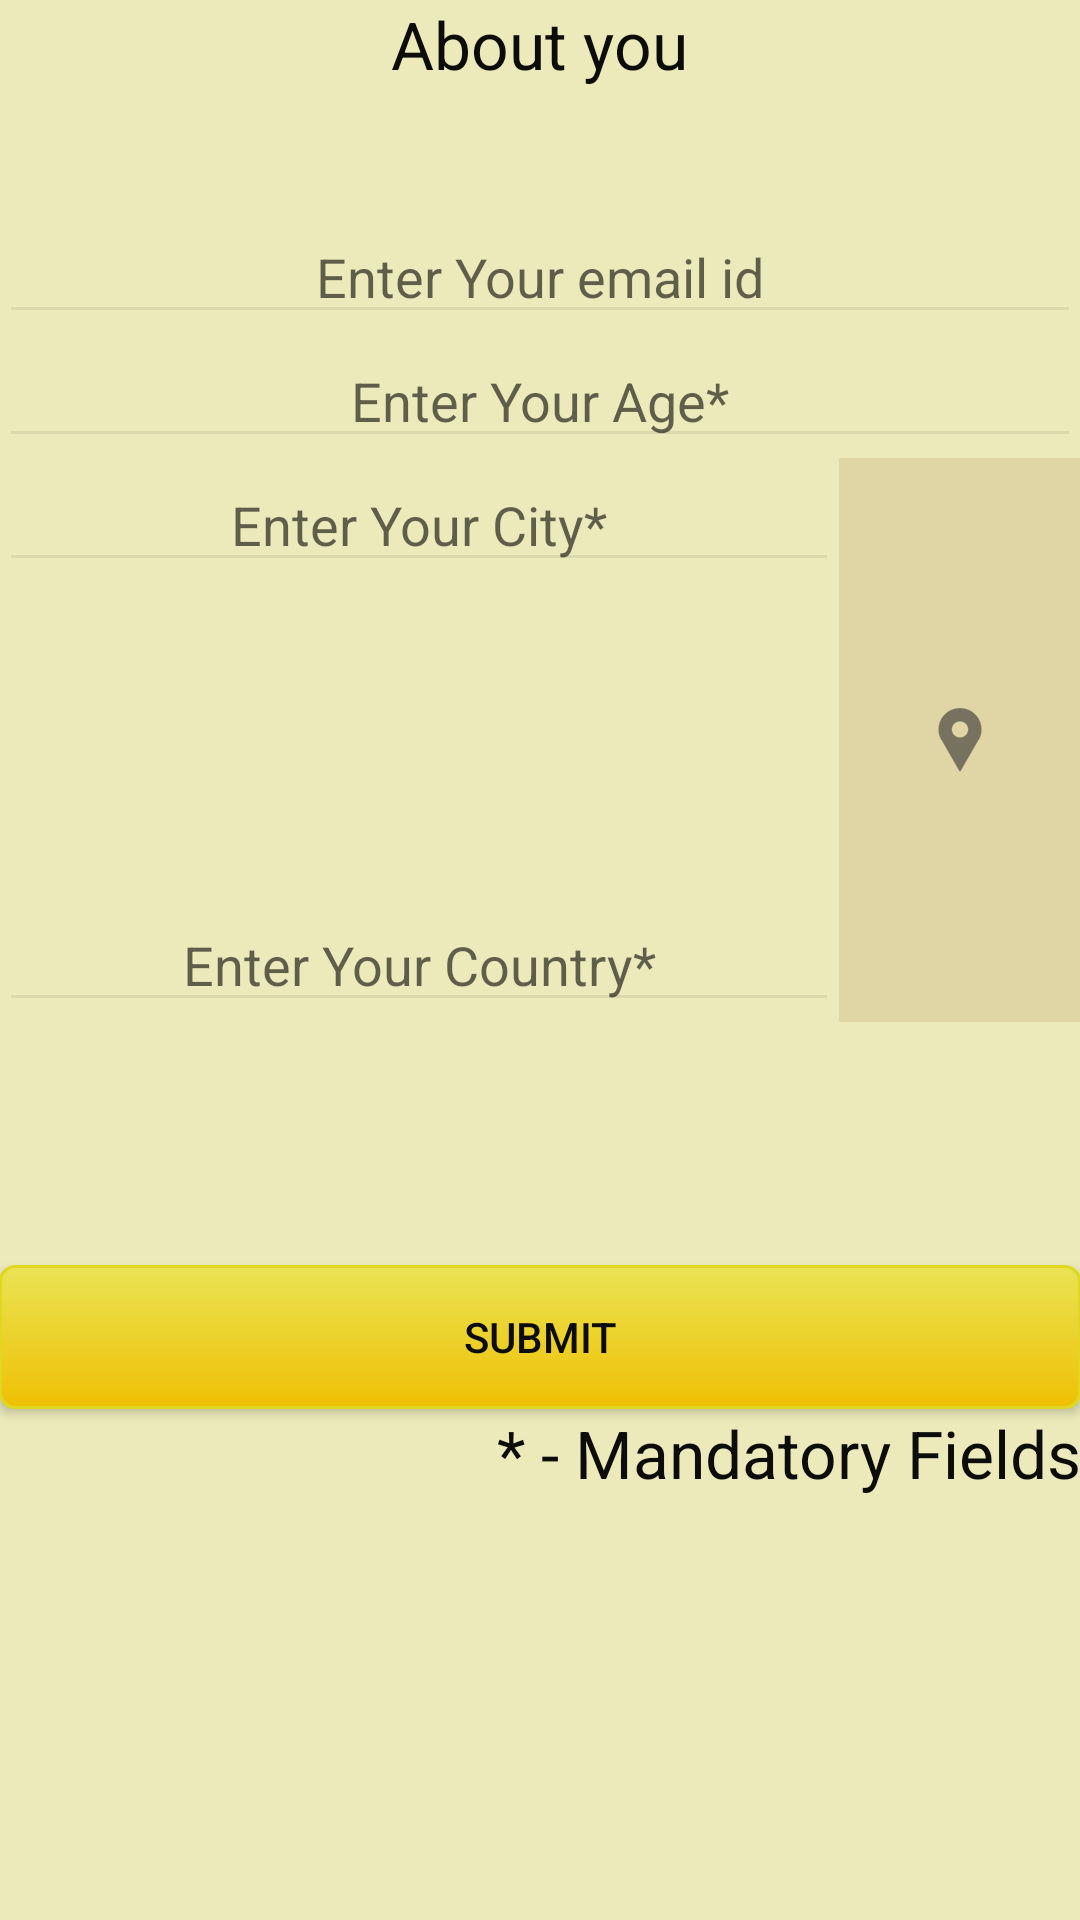

Icons on this 1080px x 1920px Android screen, each with its box as (x1, y1, x2, y2):
location: (938, 708, 982, 772)
